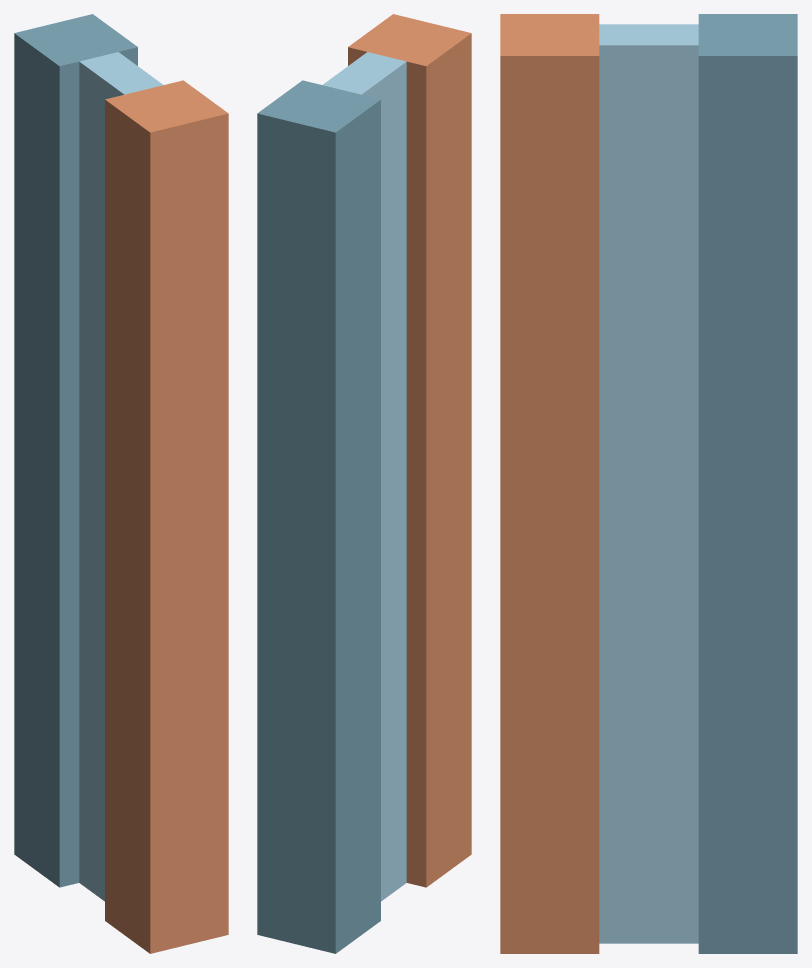
Rendered from wallArch.fbx.
3 views of the same model, side by side, from view 1: azimuth 30°, elevation 25°; view 2: azimuth 150°, elevation 25°; view 3: azimuth 270°, elevation 25° (orthographic). The views are drawn at different scales.
Parts seen in each view (by area): view 1: wallArch; view 2: wallArch; view 3: wallArch.
Boxes of the visible parts, left/top/right/bottom form: wallArch: left=14, top=14, right=228, bottom=953; wallArch: left=257, top=14, right=471, bottom=953; wallArch: left=500, top=14, right=797, bottom=953.
Size of the model in its own units: 1 by 10 by 3.
